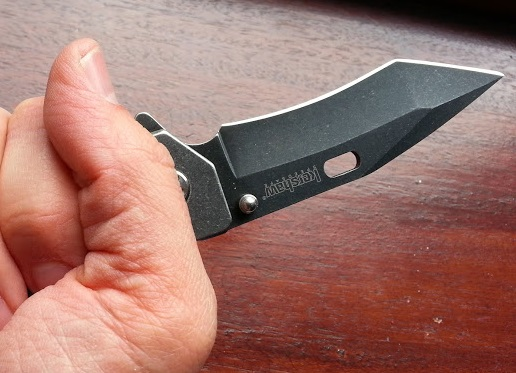knife: (1, 32, 508, 254)
